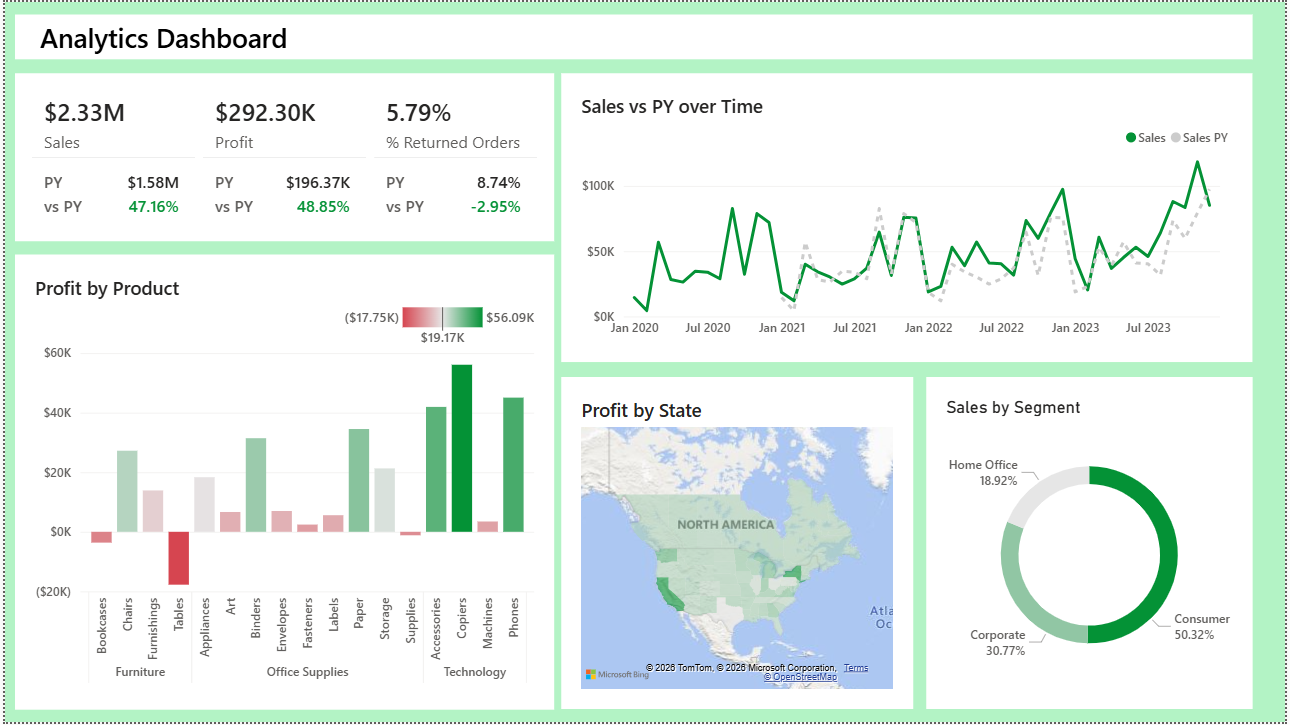

The dashboard page shown, as its layout file describes it:
{"tool":"powerbi","page":{"name":"Page 1","canvas":[1280,720],"ordinal":0},"visuals":[{"type":"cardVisual","fields":{"Data":["Key Measures.Sales","Key Measures.Profit","Key Measures.% Returned Orders"]},"box":[10.1,71,539.1,168.1],"z":0},{"type":"shape","box":[8.8,12.5,1237.5,45],"z":1000},{"type":"lineChart","title":"Sales vs PY over Time","fields":{"Y":["Key Measures.Sales","Key Measures.Sales PY"],"Category":["Date Table.Start Of Month"]},"box":[556.5,71,691.3,288.4],"z":2000},{"type":"columnChart","title":"Profit by Product","fields":{"Category":["Orders.Category","Orders.Sub-Category"],"Y":["Key Measures.Profit"]},"box":[10.1,252.2,539.1,455.1],"z":3000},{"type":"donutChart","title":"Sales by Segment","fields":{"Y":["Key Measures.Sales"],"Category":["Orders.Segment"]},"box":[921.7,375.4,326.1,331.9],"z":4000},{"type":"filledMap","title":"Profit by State","fields":{"Category":["Orders.State/Province"]},"box":[556.5,375.4,352.2,331.9],"z":4001}]}

Visuals, with their boxes in screenshot pixels (x1, y1, x2, y2), scaled from the page's 1280x720 canvas onto the 1290x725 screenshot:
cardVisual - Key Measures.Sales x Key Measures.Profit: Rect(10, 71, 553, 241)
shape: Rect(9, 13, 1256, 58)
"Sales vs PY over Time" lineChart: Rect(561, 71, 1258, 362)
"Profit by Product" columnChart: Rect(10, 254, 553, 712)
"Sales by Segment" donutChart: Rect(929, 378, 1258, 712)
"Profit by State" filledMap: Rect(561, 378, 916, 712)
